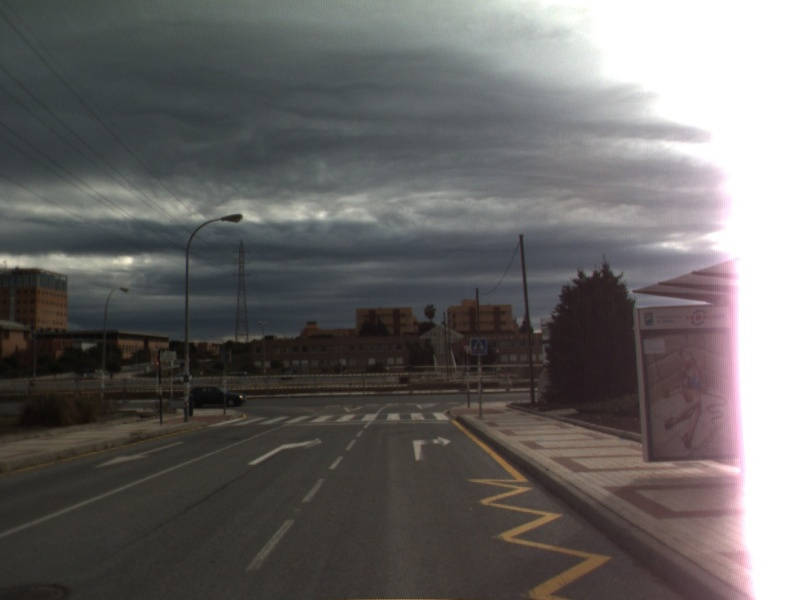RIGHT: (245, 435, 324, 467), (410, 434, 454, 462)
